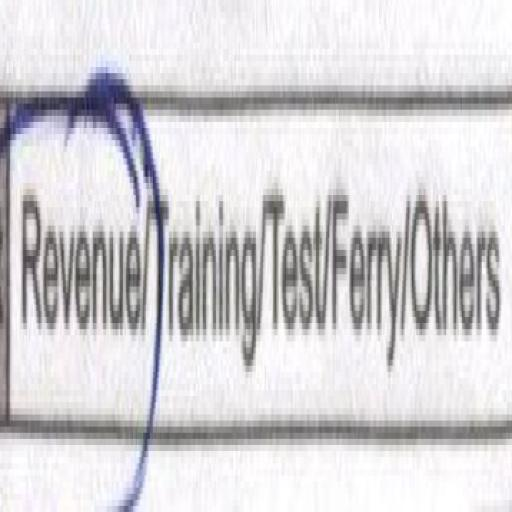check: (0, 0, 151, 512)
